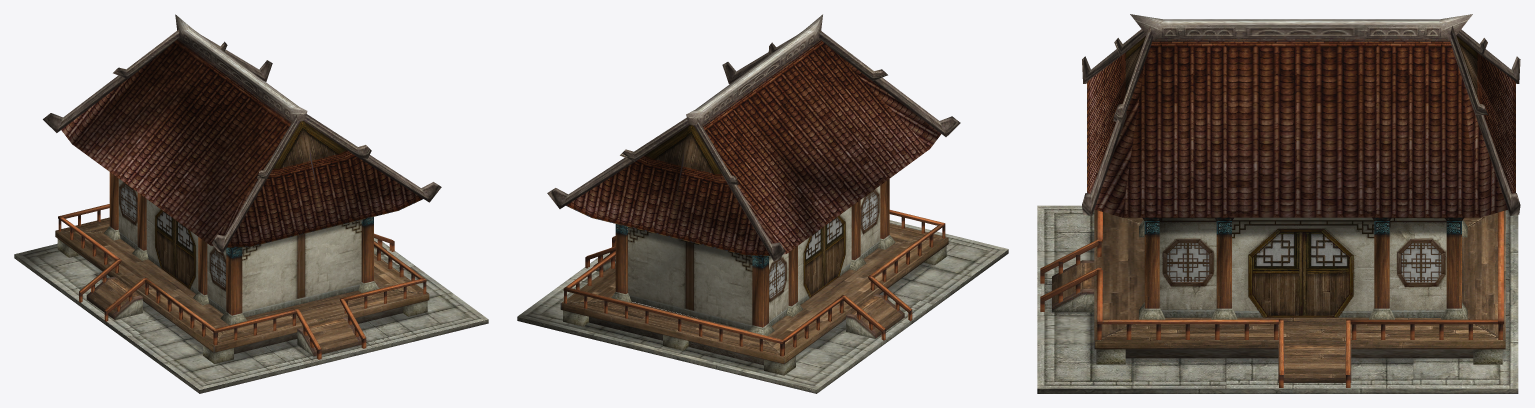
File: a1-008-house5_lod_01.fbx
3 views of the same model, side by side, from view 1: azimuth 30°, elevation 25°; view 2: azimuth 150°, elevation 25°; view 3: azimuth 270°, elevation 25° (orthographic). The views are drawn at different scales.
Visible parts, largest first — view 1: a1-008-house5-1, a1-008-house5-03, a1-008-house5-02; view 2: a1-008-house5-1, a1-008-house5-03, a1-008-house5-02; view 3: a1-008-house5-1, a1-008-house5-03, a1-008-house5-02.
Boxes of the visible parts, bbox=[...] form: a1-008-house5-1: bbox=[14, 14, 488, 393]; a1-008-house5-03: bbox=[55, 172, 488, 389]; a1-008-house5-02: bbox=[118, 179, 361, 317]; a1-008-house5-1: bbox=[517, 14, 1008, 393]; a1-008-house5-03: bbox=[559, 179, 1008, 375]; a1-008-house5-02: bbox=[628, 186, 880, 330]; a1-008-house5-1: bbox=[1037, 14, 1520, 393]; a1-008-house5-03: bbox=[1037, 205, 1505, 388]; a1-008-house5-02: bbox=[1159, 217, 1446, 317].
Size of the model in its own units: 14.74 by 10.82 by 16.45.
